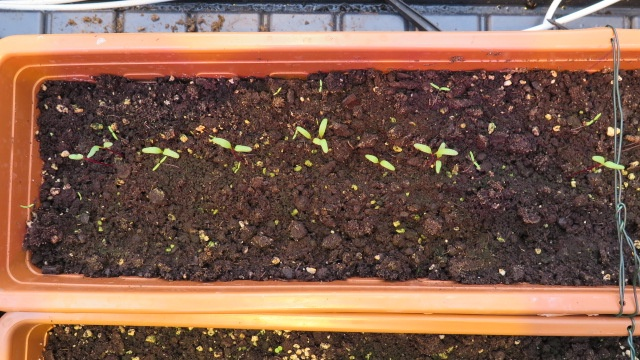crop: (211, 135, 253, 164), (68, 147, 113, 171), (581, 153, 626, 173), (413, 141, 457, 160), (316, 117, 336, 158), (293, 125, 322, 150), (359, 154, 396, 172), (141, 145, 183, 159), (436, 138, 445, 176)
weed: (578, 111, 606, 128), (425, 81, 455, 93), (151, 154, 168, 173), (103, 124, 120, 142), (315, 77, 326, 94), (268, 86, 283, 96)
